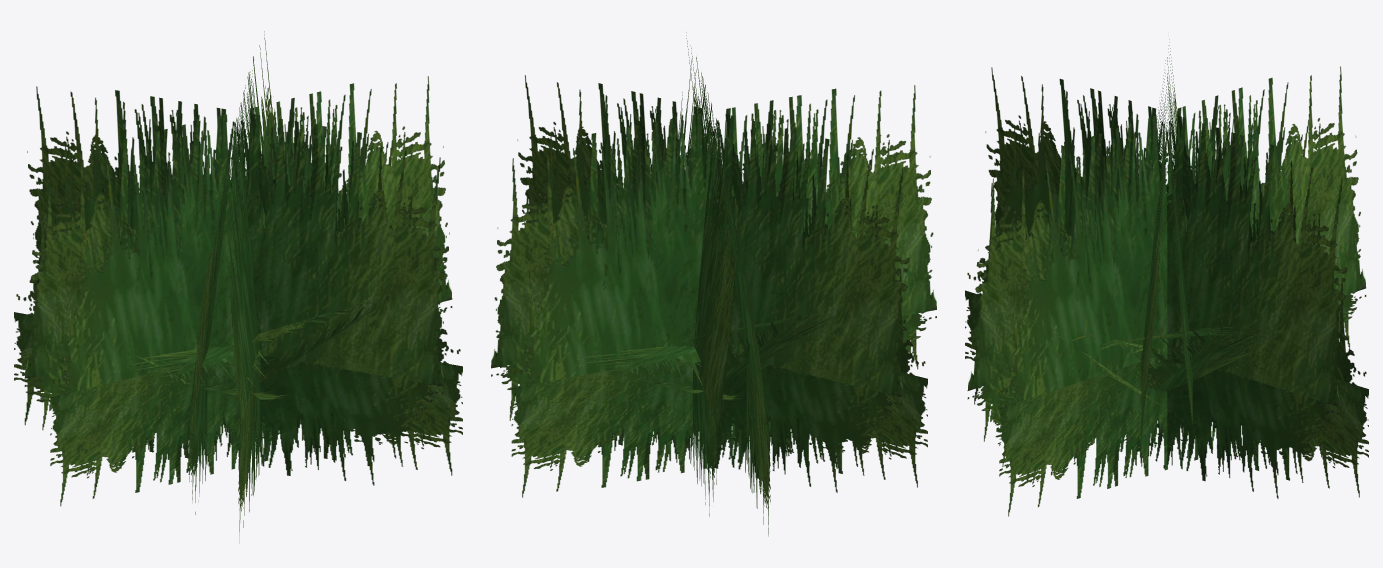
File: grass04.glb
3 renders of one model, left to right at view 1: azimuth 30°, elevation 25°; view 2: azimuth 150°, elevation 25°; view 3: azimuth 270°, elevation 25°, orthographic.
Parts seen in each view (by area): view 1: Grass04; view 2: Grass04; view 3: Grass04.
Part boxes in pixels (x1=…): Grass04: x1=14, y1=31, x2=462, y2=535; Grass04: x1=491, y1=32, x2=936, y2=536; Grass04: x1=965, y1=39, x2=1368, y2=516.
Size of the model in its own units: 2.68 by 2.19 by 2.33.
1 material, 1 textured.
